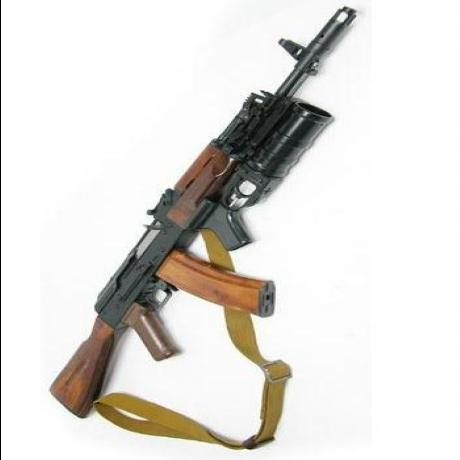weapon: (42, 8, 380, 422)
